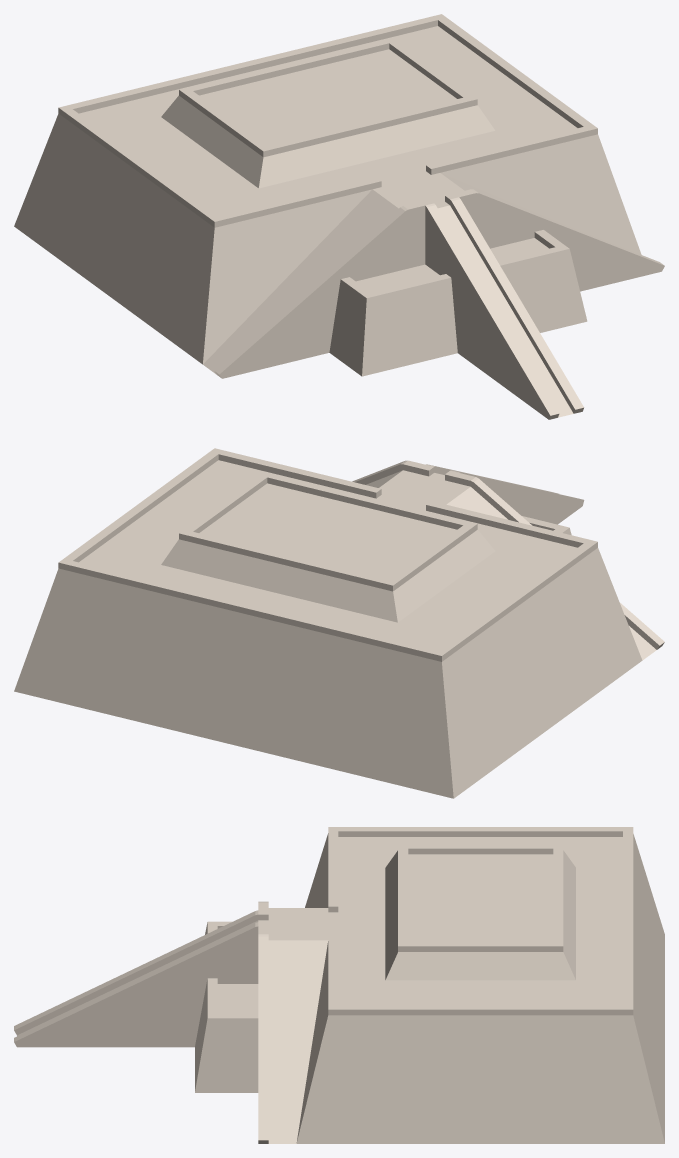
The model's file is OUR ZAQURAT.glb.
3 views of the same model, one above another, from view 1: azimuth 30°, elevation 25°; view 2: azimuth 150°, elevation 25°; view 3: azimuth 270°, elevation 25° (orthographic). The views are drawn at different scales.
Parts seen in each view (by area): view 1: Geom3D; view 2: Geom3D; view 3: Geom3D.
Boxes of the visible parts, box(x1,y1,x2,y2) form: Geom3D: box(14, 14, 664, 419); Geom3D: box(14, 448, 664, 798); Geom3D: box(14, 827, 664, 1143).
Size of the model in its own units: 3.95 by 1.25 by 5.12.
